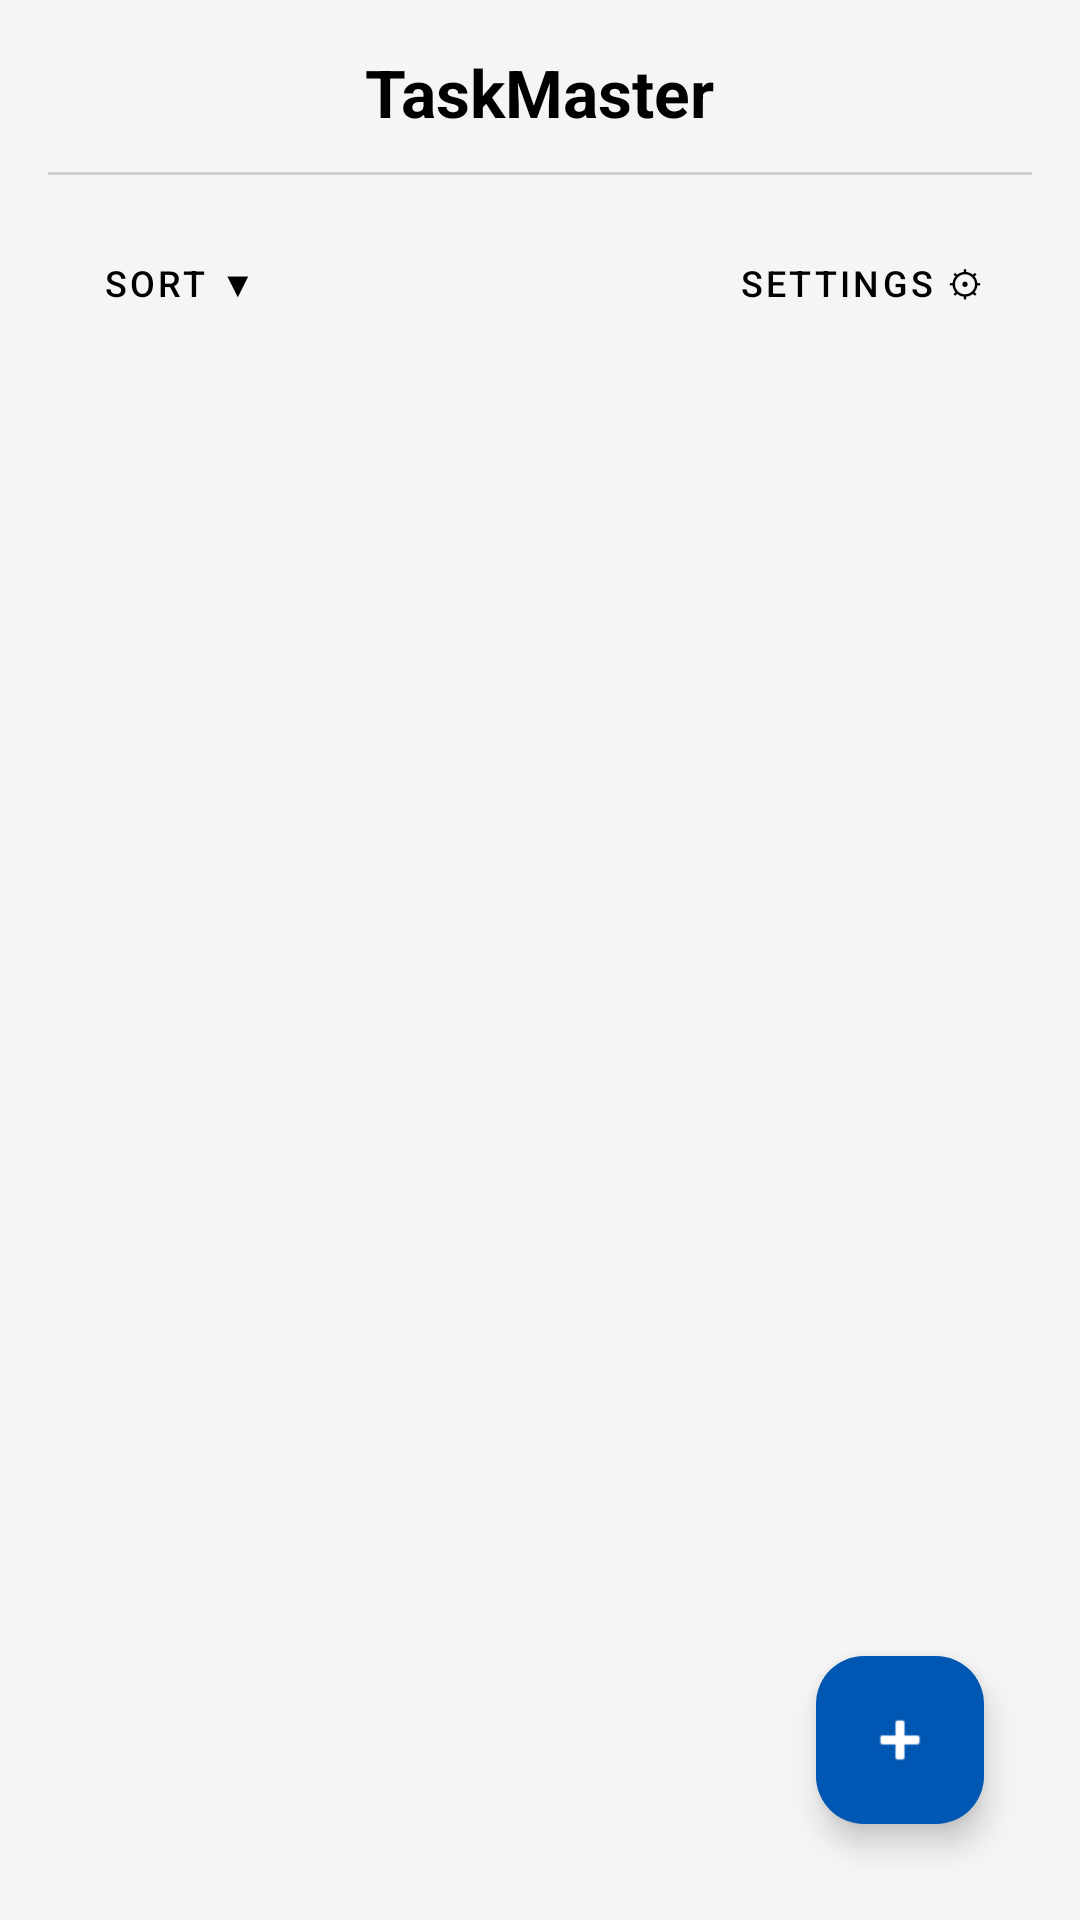

Where to tap for icons on this 1080w x 1920h app screen, as (x=x, y=y):
Add new task: (x=900, y=1740)
